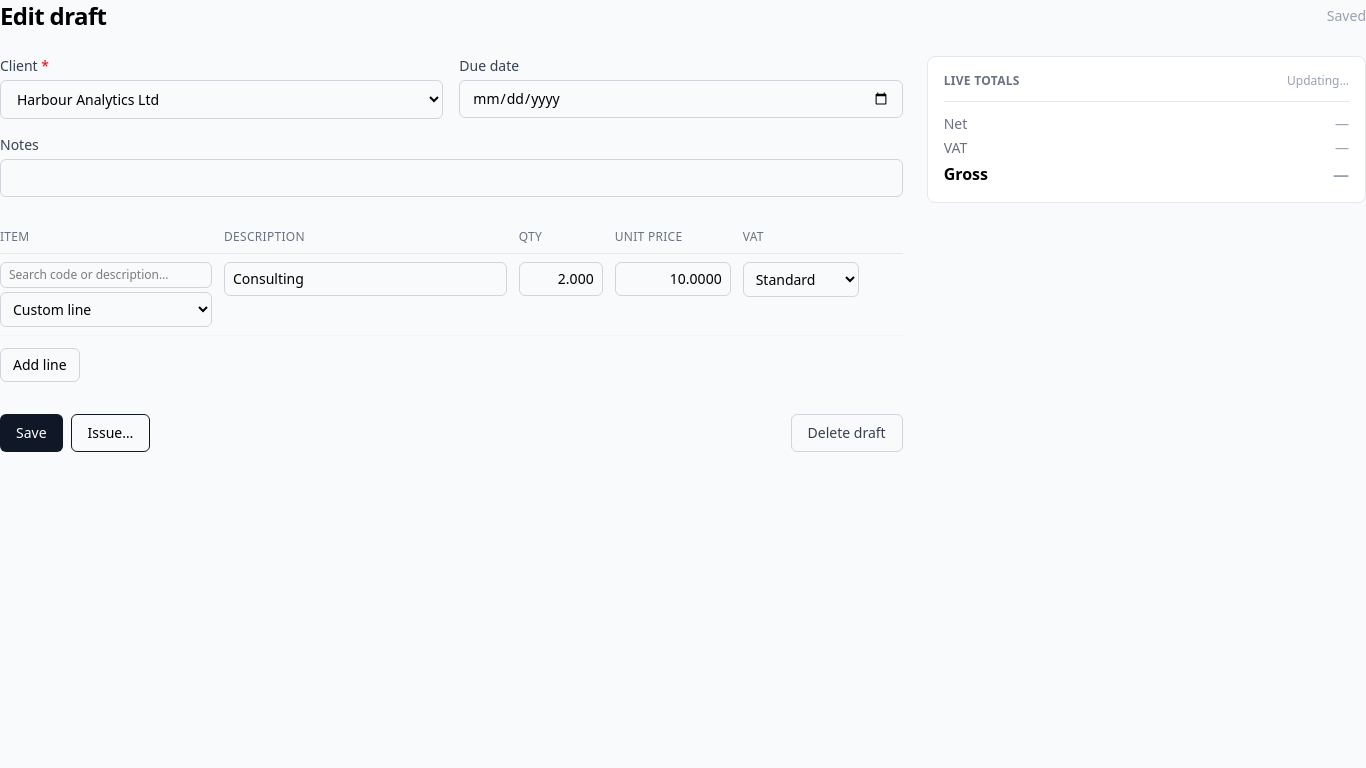
Test: issue dialog › renders the server message when issuing is refused
Expected: the field showing "Consulting" is shown, [224, 262, 507, 296]
Click the button "Issue…": (110, 433) [71, 414, 150, 452]
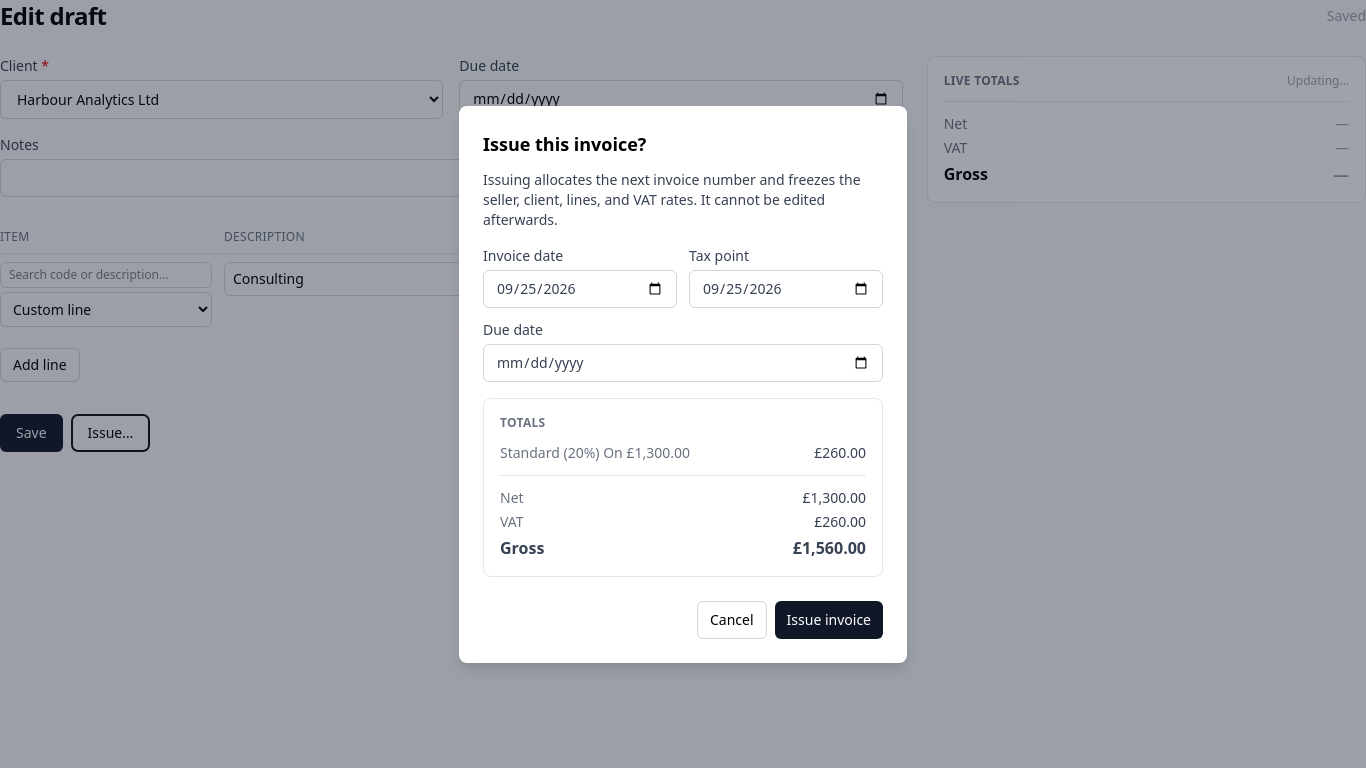
Now the dialog is shown, box [459, 106, 907, 662]
Click the button "Issue invoice": (829, 620) [775, 600, 883, 638]
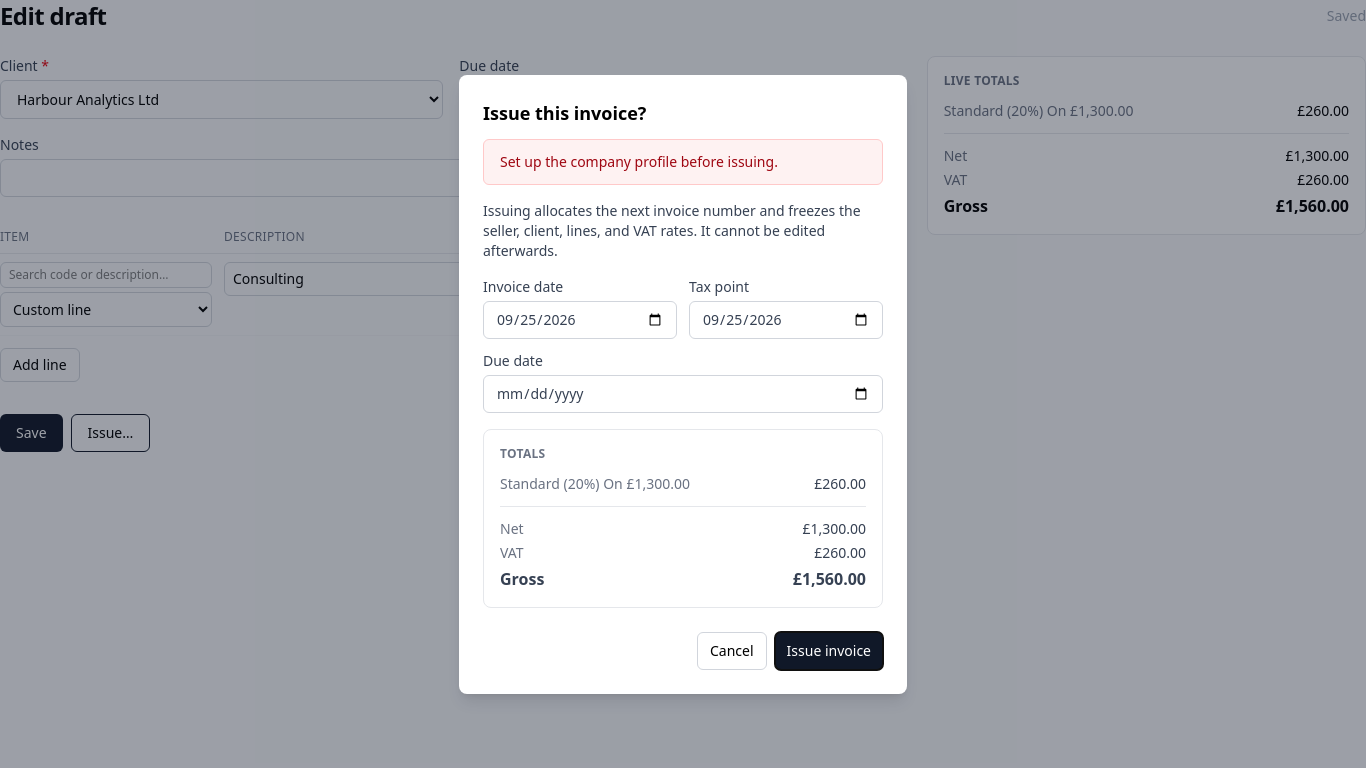
Now the text "Set up the company profile before issuing." is shown, box [483, 138, 883, 184]
